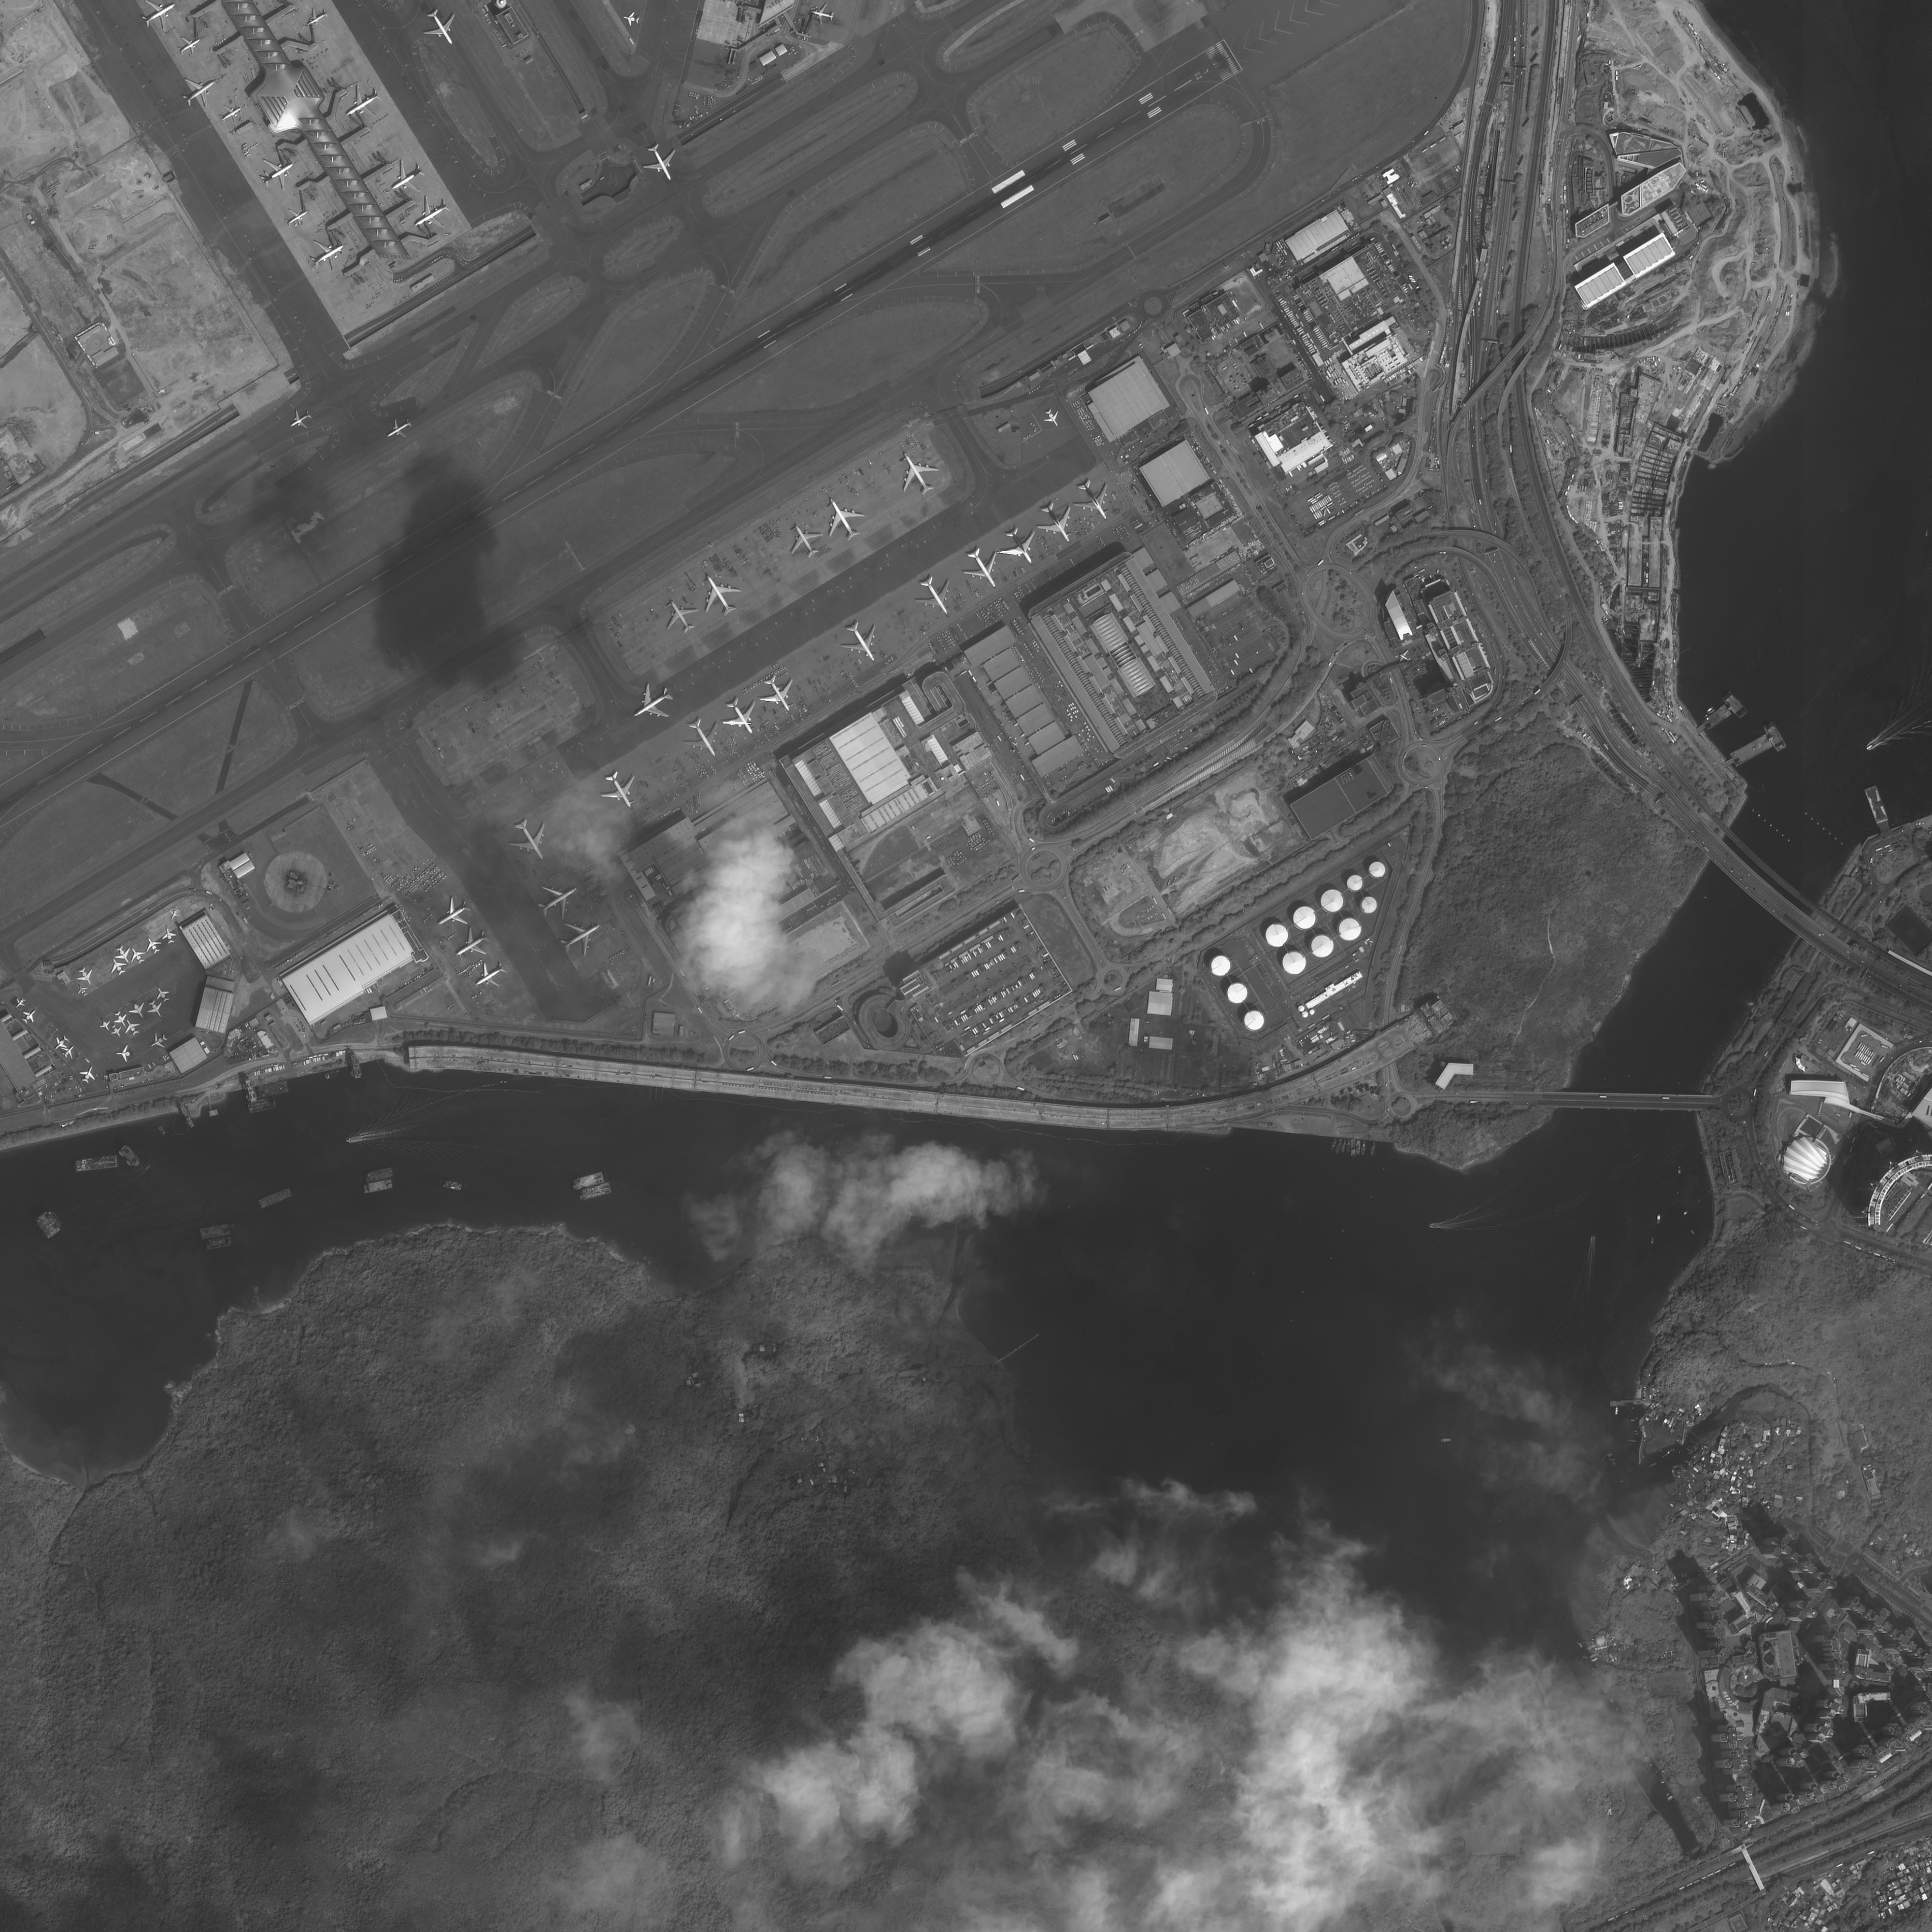harbor: (1725, 732, 1775, 770), (1865, 786, 1891, 833), (1697, 704, 1734, 734), (1610, 1399, 1635, 1407)
plane: (812, 488, 874, 548), (832, 610, 890, 674), (888, 442, 947, 506), (690, 564, 748, 626), (502, 810, 561, 870), (625, 674, 683, 732), (908, 566, 964, 626), (1067, 471, 1123, 531), (676, 709, 732, 766), (1030, 495, 1086, 552), (552, 909, 610, 964), (991, 520, 1049, 575), (403, 188, 460, 242), (715, 690, 770, 747), (955, 540, 1008, 598), (593, 763, 648, 817), (533, 874, 587, 927), (336, 78, 389, 131), (416, 4, 469, 55), (754, 669, 805, 722), (380, 154, 432, 205), (637, 136, 685, 189), (303, 228, 352, 278), (780, 517, 830, 566), (655, 593, 706, 640), (175, 65, 223, 115), (428, 890, 478, 938), (255, 150, 303, 198), (448, 922, 497, 968), (133, 0, 182, 35), (469, 957, 511, 996), (281, 200, 313, 234), (382, 414, 416, 446), (173, 30, 205, 62), (303, 2, 333, 34), (216, 99, 248, 129), (287, 405, 317, 435), (145, 1028, 172, 1054), (1040, 403, 1065, 432), (106, 954, 131, 980), (74, 964, 99, 991), (111, 943, 136, 970), (140, 932, 165, 959), (810, 4, 837, 27), (18, 1005, 44, 1028), (127, 998, 150, 1023), (120, 1016, 143, 1040), (76, 1063, 101, 1086), (126, 945, 149, 970), (57, 1040, 80, 1063), (145, 998, 166, 1023), (110, 1008, 131, 1031), (50, 1031, 71, 1054), (152, 984, 172, 1007), (621, 9, 642, 27), (1394, 648, 1414, 665), (106, 1023, 124, 1040), (113, 1046, 131, 1063), (161, 927, 177, 947), (74, 984, 92, 1000), (12, 994, 28, 1012), (99, 1017, 113, 1035), (166, 906, 180, 922)
ship: (257, 1187, 294, 1210), (1720, 692, 1750, 720), (73, 1155, 119, 1173), (117, 1143, 143, 1171), (1764, 722, 1787, 754), (198, 1223, 235, 1240), (571, 1171, 605, 1191), (579, 1182, 612, 1201), (363, 1178, 393, 1196), (364, 1168, 396, 1184), (203, 1235, 234, 1251), (248, 1097, 276, 1113), (442, 1180, 464, 1192), (345, 1132, 363, 1145), (324, 1070, 340, 1079), (1350, 1139, 1357, 1157), (1336, 1138, 1343, 1154), (1369, 1141, 1376, 1157), (1330, 1139, 1338, 1154), (1341, 1139, 1348, 1154), (157, 1125, 166, 1136), (1440, 1437, 1453, 1444), (1346, 1139, 1352, 1155), (1361, 1139, 1366, 1155), (1355, 1141, 1361, 1155), (1865, 745, 1874, 752), (1591, 1235, 1596, 1246), (1428, 1223, 1438, 1228), (1656, 1215, 1661, 1226), (1677, 1166, 1683, 1175), (1651, 1237, 1654, 1246), (1683, 1210, 1688, 1215), (1615, 1408, 1619, 1414)
